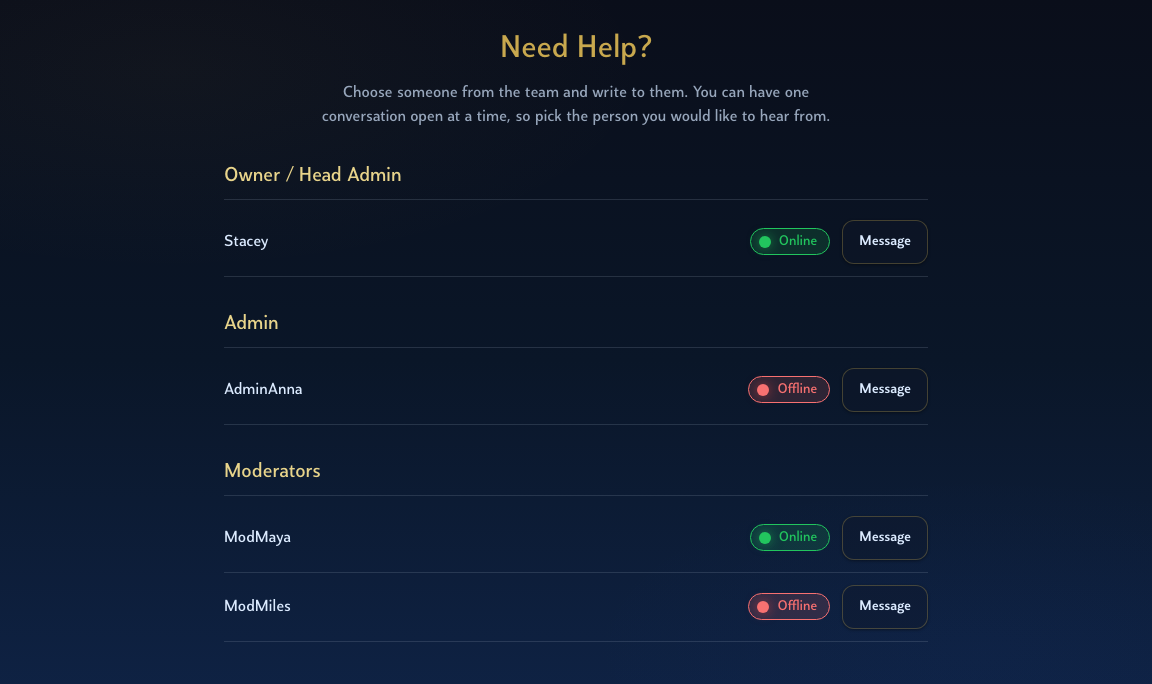
Scenario: NeedHelpPage › sends the chosen person a message through the Messages API and confirms it
The width and height of the screenshot is (1152, 684).
Click the button with aria-label "Message ModMaya" at (885, 538), box x1=842 y1=516 x2=928 y2=560
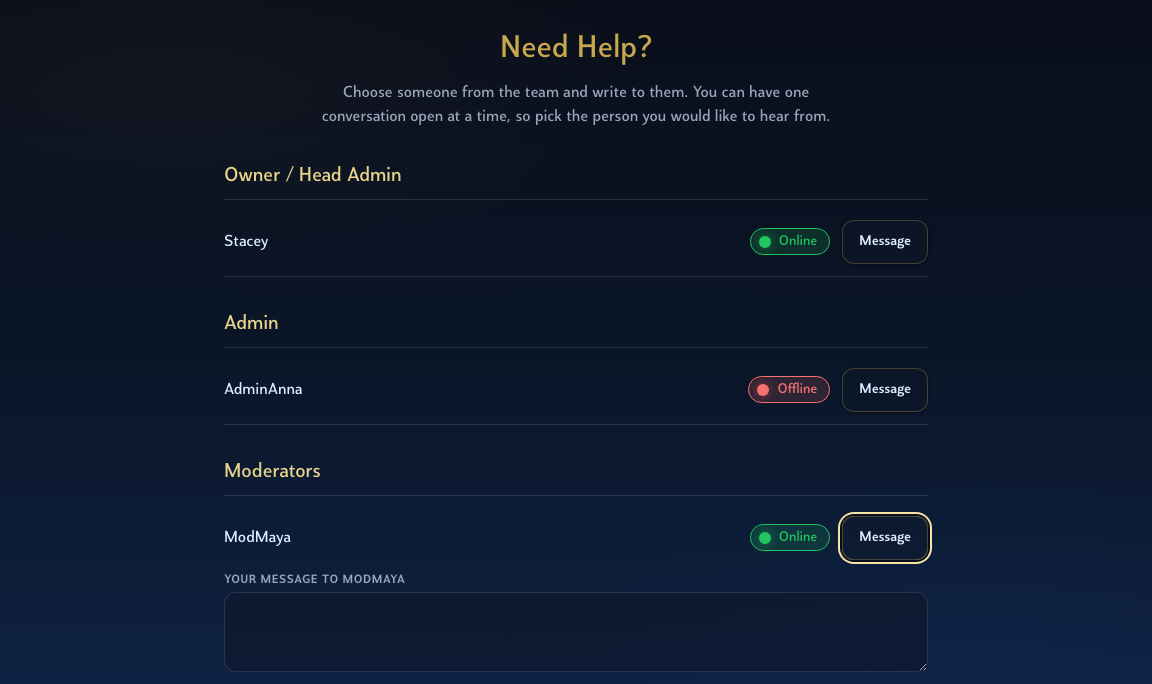
Type "My mare is off her feed" into the text box labelled "Your message to ModMaya" at (576, 632), box x1=224 y1=592 x2=928 y2=672
(page scrolled)
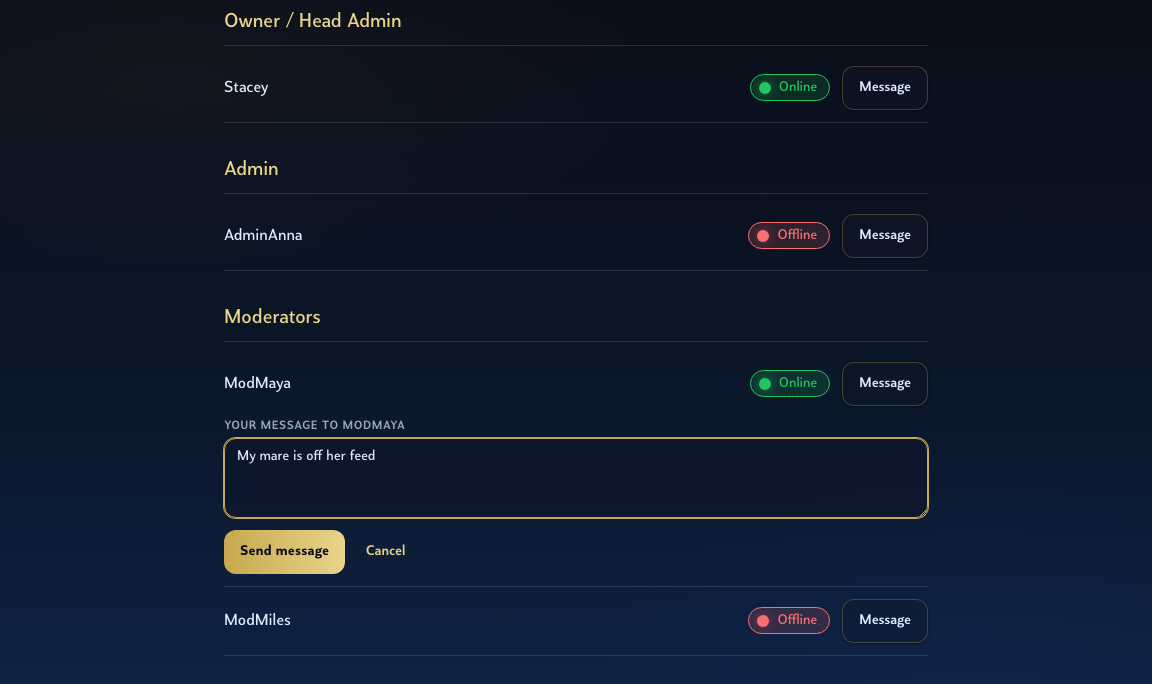
Click the button "Send message" at (285, 552), box x1=224 y1=530 x2=345 y2=574
(page scrolled)
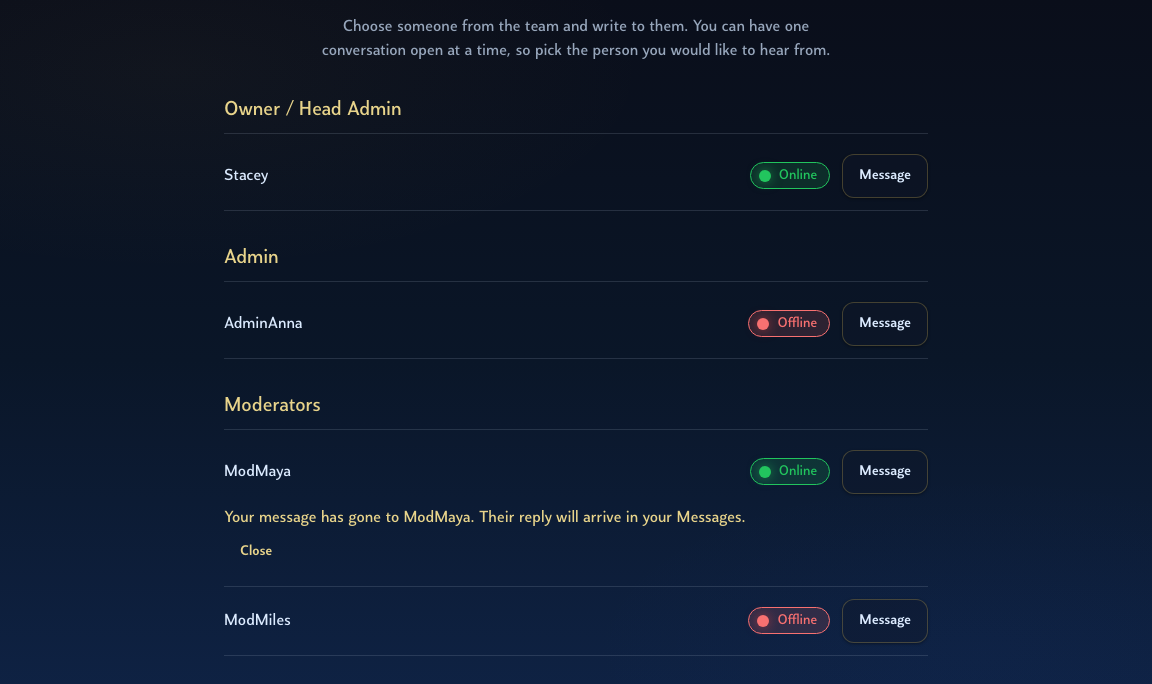
Result: the message shows "Your message has gone to ModMaya" at x1=224 y1=510 x2=745 y2=526
